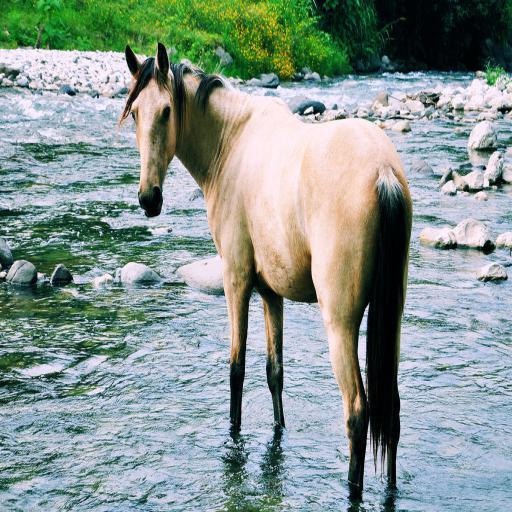horse: (112, 41, 402, 491)
